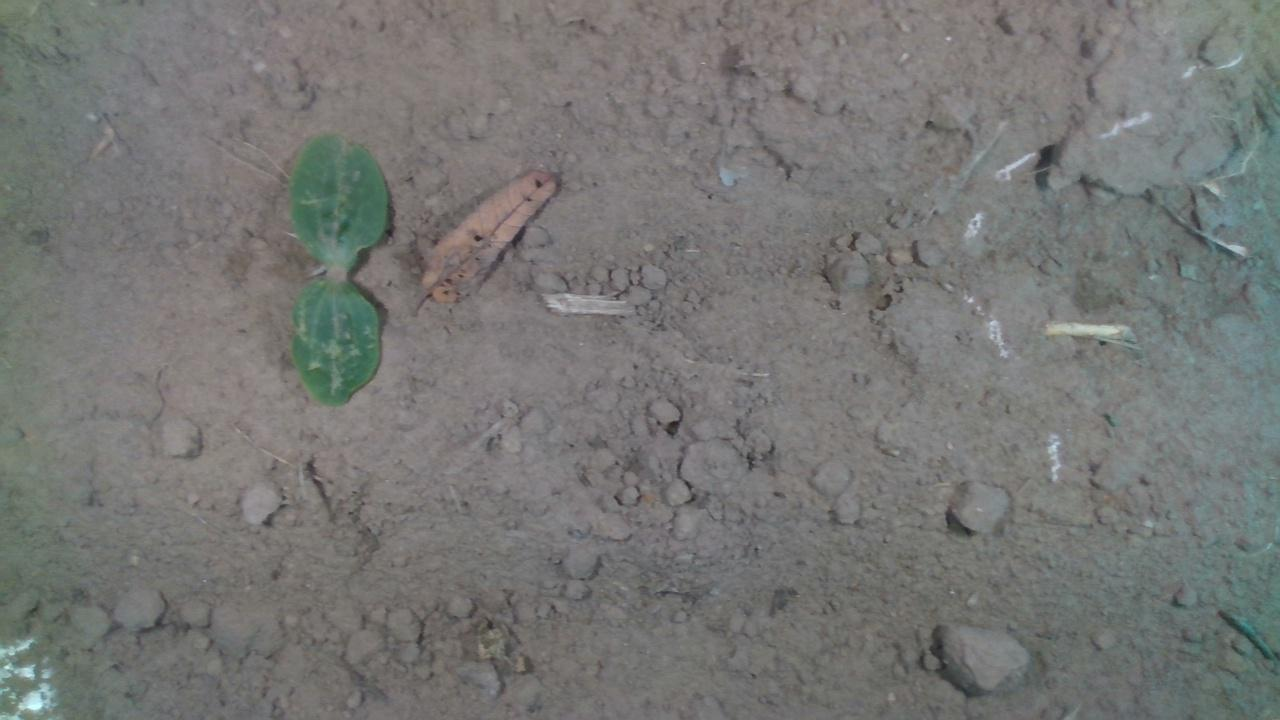crop: (282, 127, 390, 405)
